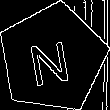N_N: (28, 30, 76, 87)
